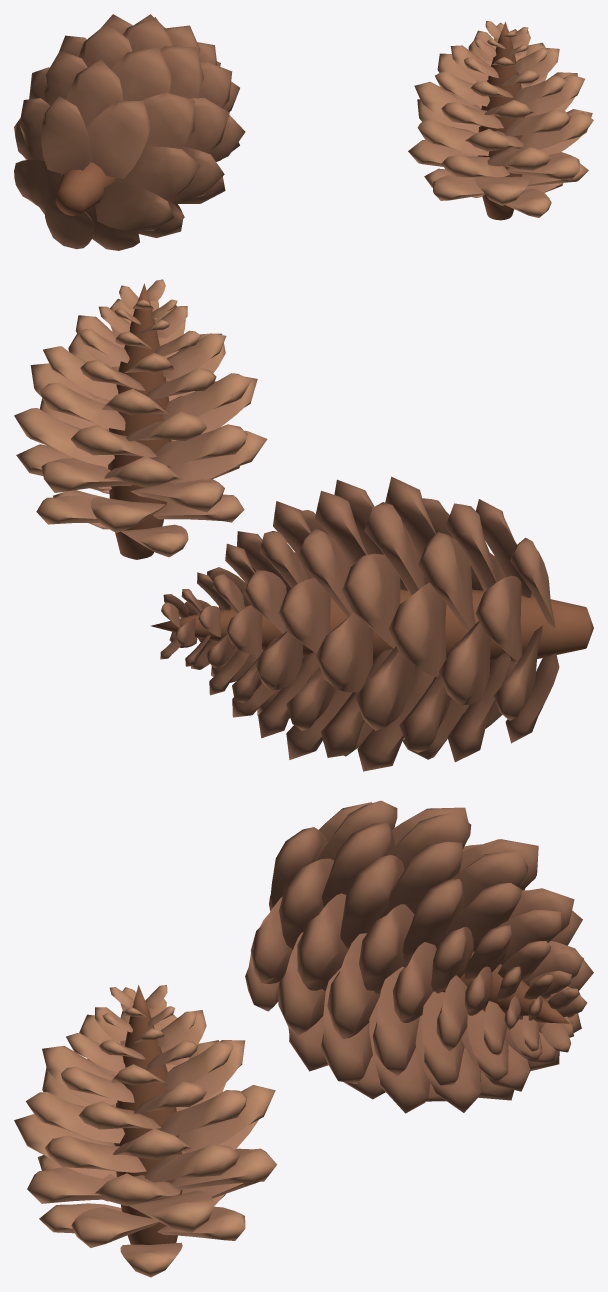
Rendered from grab3d-pine-cone.glb.
3 renders of one model, top to bottom at view 1: azimuth 30°, elevation 25°; view 2: azimuth 150°, elevation 25°; view 3: azimuth 270°, elevation 25°, orthographic. The views are drawn at different scales.
Visible parts, largest first — view 1: pine-cone_body; view 2: pine-cone_body; view 3: pine-cone_body.
Part boxes in pixels (x1,y1,x2,y2): pine-cone_body: [14, 14, 593, 250]; pine-cone_body: [14, 279, 593, 771]; pine-cone_body: [14, 800, 593, 1277].
Bounding box in the file's own units: 0.1778 × 0.0729 × 0.1348.
Materials: 1 (1 with a texture image).
